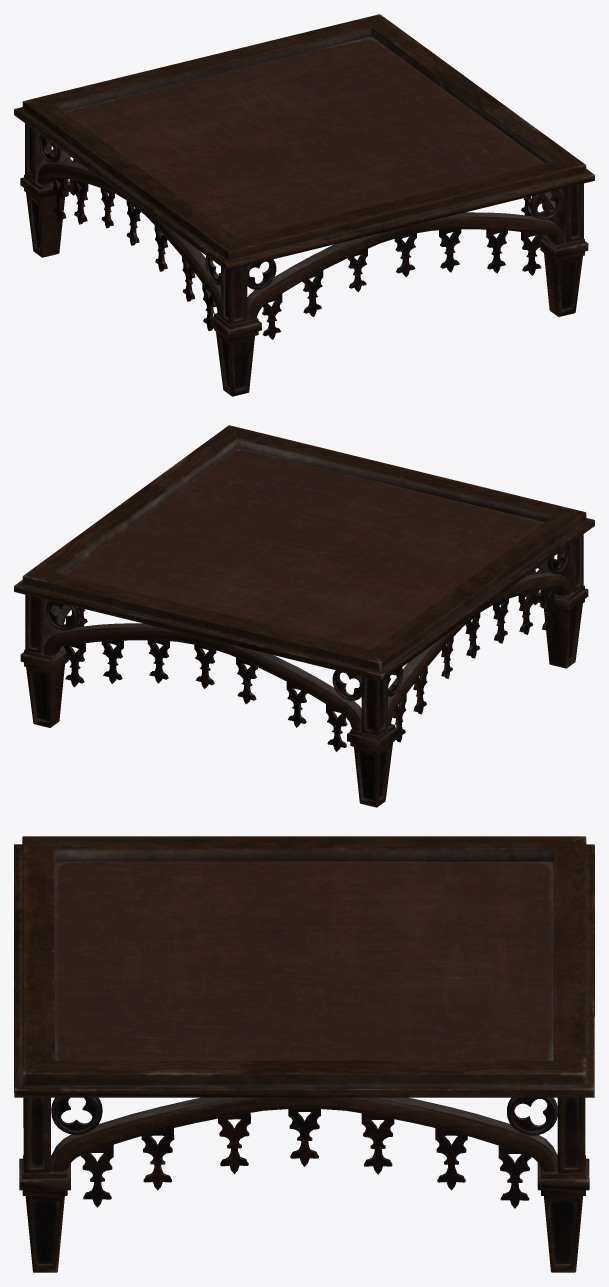
Rendered from gothic_coffee_table.glb.
The picture shows the model from 3 angles, top to bottom: view 1: azimuth 30°, elevation 25°; view 2: azimuth 150°, elevation 25°; view 3: azimuth 270°, elevation 25°; orthographic projection. The views are drawn at different scales.
Parts seen in each view (by area): view 1: gothic_coffee_table; view 2: gothic_coffee_table; view 3: gothic_coffee_table.
Boxes of the visible parts, x1=… form: gothic_coffee_table: x1=14, y1=14, x2=594, y2=396; gothic_coffee_table: x1=14, y1=425, x2=594, y2=807; gothic_coffee_table: x1=14, y1=836, x2=594, y2=1272.
Bounding box in the file's own units: 1.44 × 0.5588 × 1.44.
1 material, 1 textured.
